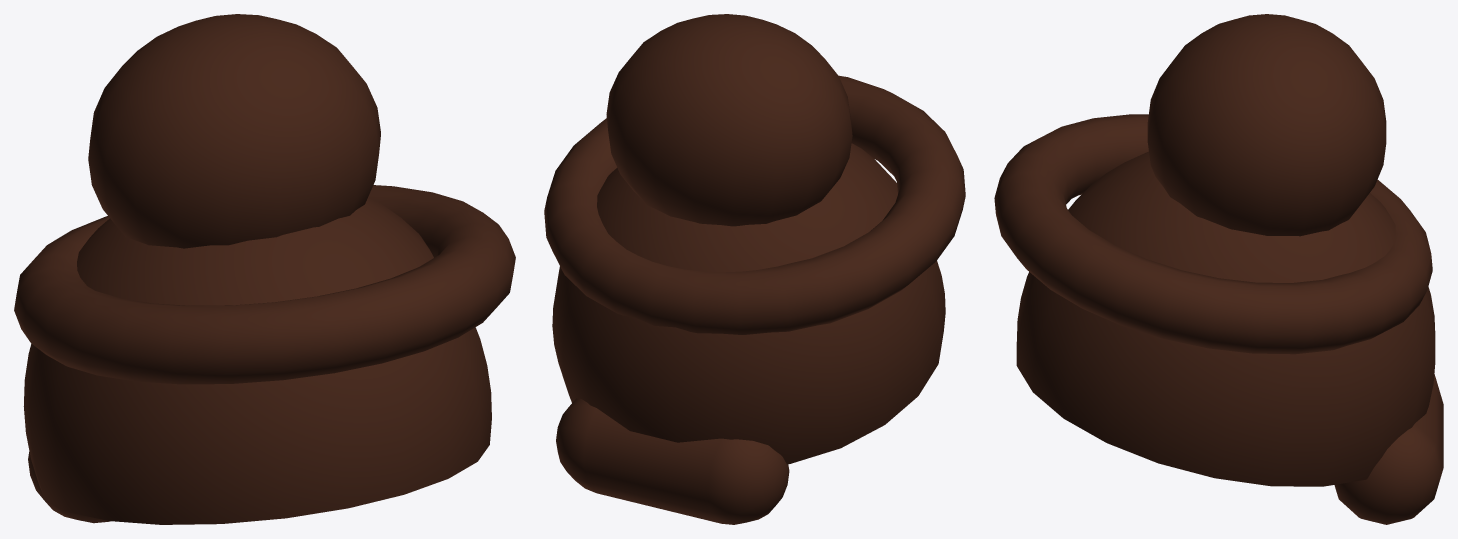
Rendered from royal_bun.glb.
3 renders of one model, left to right at view 1: azimuth 30°, elevation 25°; view 2: azimuth 150°, elevation 25°; view 3: azimuth 270°, elevation 25°, orthographic. The views are drawn at different scales.
Visible parts, largest first — view 1: hair_cap, royal_chignon, halo_braid, royal_nape_roll; view 2: hair_cap, royal_chignon, halo_braid, royal_nape_roll; view 3: hair_cap, royal_chignon, halo_braid, royal_nape_roll.
Boxes of the visible parts, x1=… form: hair_cap: x1=23, y1=197, x2=491, y2=524; royal_chignon: x1=88, y1=14, x2=380, y2=248; halo_braid: x1=14, y1=185, x2=515, y2=384; royal_nape_roll: x1=28, y1=451, x2=110, y2=523; hair_cap: x1=552, y1=143, x2=945, y2=464; royal_chignon: x1=606, y1=14, x2=852, y2=226; halo_braid: x1=544, y1=75, x2=965, y2=334; royal_nape_roll: x1=556, y1=398, x2=789, y2=524; hair_cap: x1=1016, y1=151, x2=1435, y2=486; royal_chignon: x1=1147, y1=14, x2=1386, y2=236; halo_braid: x1=994, y1=114, x2=1432, y2=354; royal_nape_roll: x1=1334, y1=374, x2=1443, y2=524.
Bounding box in the file's own units: 0.25 × 0.2846 × 0.252.
